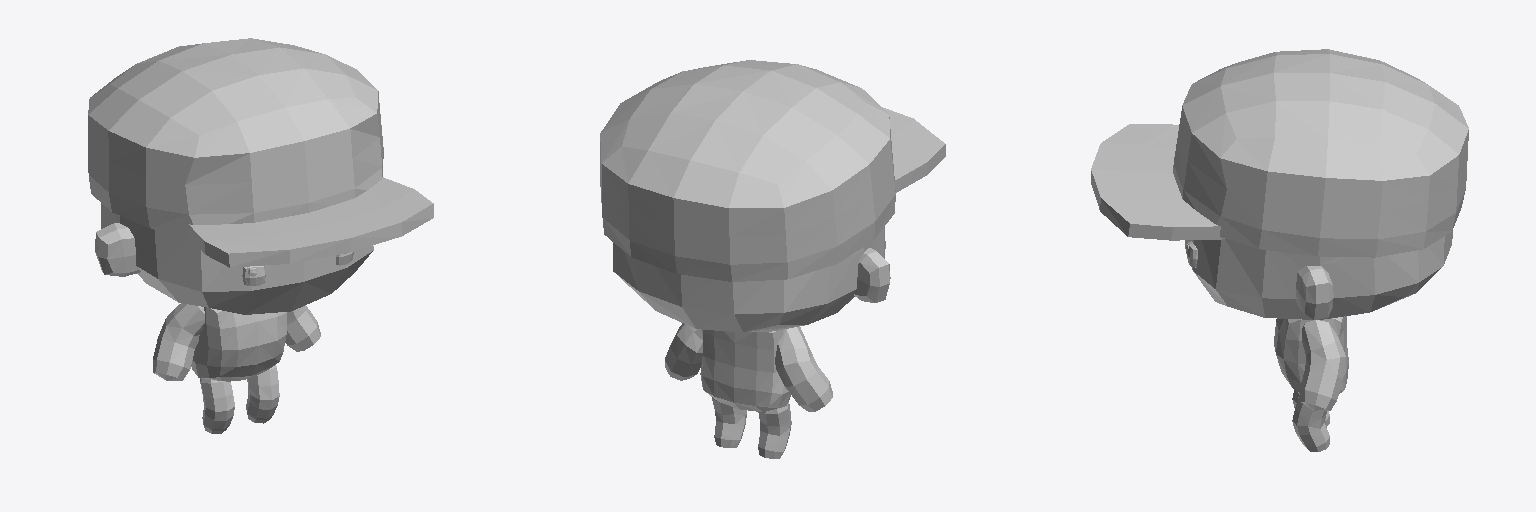
Rendered from idle_0046.obj.
The picture shows the model from 3 angles: view 1: azimuth 30°, elevation 25°; view 2: azimuth 150°, elevation 25°; view 3: azimuth 270°, elevation 25°; orthographic projection.
Visible parts, largest first — view 1: Object_41, Object_42, Object_36, Object_44, Object_38; view 2: Object_41, Object_36, Object_44, Object_42; view 3: Object_41, Object_36, Object_42, Object_44.
Part boxes in pixels (bbox=[...]): Object_41: bbox=[88, 38, 383, 234]; Object_42: bbox=[185, 114, 433, 267]; Object_36: bbox=[95, 203, 373, 314]; Object_44: bbox=[153, 303, 320, 433]; Object_38: bbox=[242, 251, 353, 286]; Object_41: bbox=[600, 60, 895, 281]; Object_36: bbox=[613, 227, 890, 331]; Object_44: bbox=[665, 323, 832, 458]; Object_42: bbox=[882, 107, 945, 192]; Object_41: bbox=[1182, 49, 1468, 257]; Object_36: bbox=[1185, 231, 1452, 319]; Object_42: bbox=[1091, 106, 1226, 240]; Object_44: bbox=[1274, 316, 1348, 451].
Bounding box in the file's own units: 0.9691 × 1.21 × 1.14.